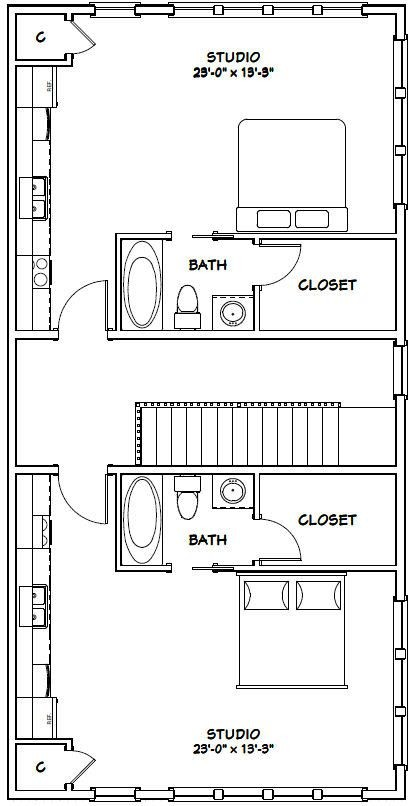door: (258, 509, 317, 578), (59, 264, 114, 334), (59, 471, 105, 537), (261, 237, 315, 290), (72, 10, 100, 70), (67, 747, 106, 786)
room: (5, 4, 404, 345), (6, 466, 412, 800)
wall: (3, 4, 22, 805), (111, 325, 403, 349), (104, 459, 400, 482), (392, 397, 408, 599), (393, 204, 411, 348), (233, 229, 401, 243), (3, 786, 97, 806), (11, 3, 95, 17), (11, 326, 61, 349), (9, 462, 58, 484), (365, 783, 405, 806), (386, 770, 409, 805), (132, 4, 179, 20), (361, 4, 406, 20), (390, 1, 405, 43)
window: (179, 789, 358, 804), (395, 604, 408, 767), (93, 1, 136, 20), (277, 4, 314, 17), (225, 3, 265, 15), (184, 4, 217, 17)
